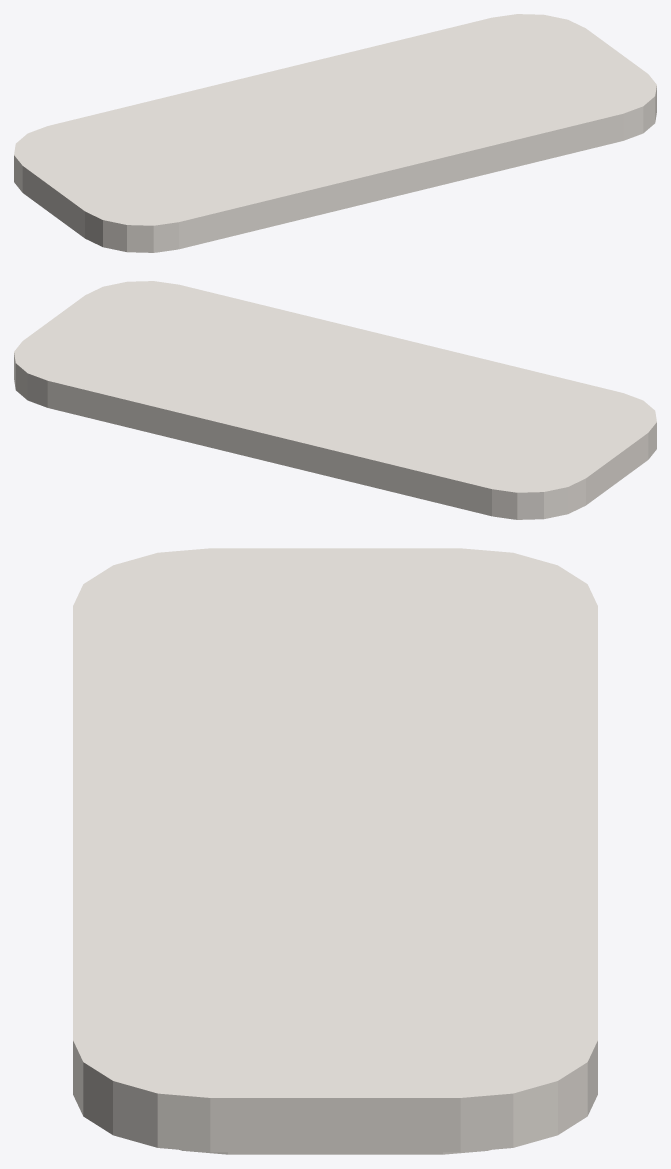
File: reception_soffit.glb
The picture shows the model from 3 angles, top to bottom: view 1: azimuth 30°, elevation 25°; view 2: azimuth 150°, elevation 25°; view 3: azimuth 270°, elevation 25°; orthographic projection. The views are drawn at different scales.
Parts seen in each view (by area): view 1: frutiger_aero_reception_soffit; view 2: frutiger_aero_reception_soffit; view 3: frutiger_aero_reception_soffit.
Part boxes in pixels (x1,y1,x2,y2): frutiger_aero_reception_soffit: [14, 14, 656, 252]; frutiger_aero_reception_soffit: [14, 281, 656, 519]; frutiger_aero_reception_soffit: [73, 548, 597, 1154].
Size of the model in its own units: 5.2 by 0.34 by 2.1.
Materials: 2 (2 with a texture image).
